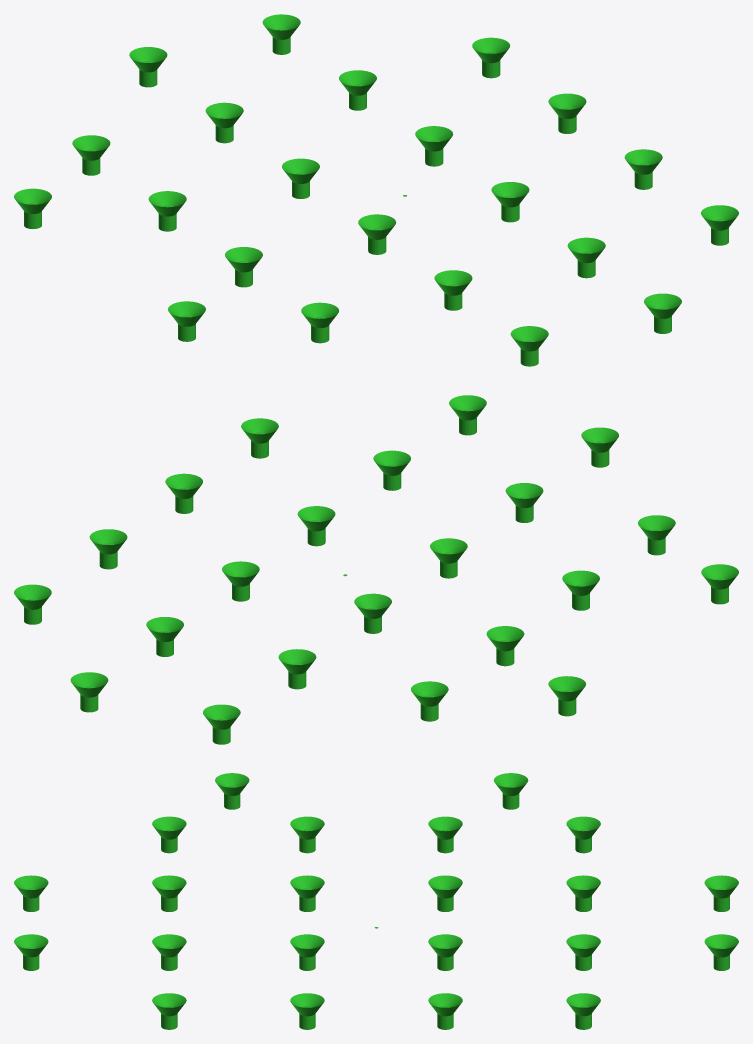
Rendered from filter_route.glb.
The picture shows the model from 3 angles, top to bottom: view 1: azimuth 30°, elevation 25°; view 2: azimuth 150°, elevation 25°; view 3: azimuth 270°, elevation 25°; orthographic projection. The views are drawn at different scales.
Parts seen in each view (by area): view 1: filter_route; view 2: filter_route; view 3: filter_route.
Part boxes in pixels (box(x1,y1,x2,y2)): filter_route: box(14, 14, 738, 366); filter_route: box(14, 395, 738, 744); filter_route: box(14, 773, 738, 1029).
Size of the model in its own units: 7.22 by 0.3718 by 9.43.
